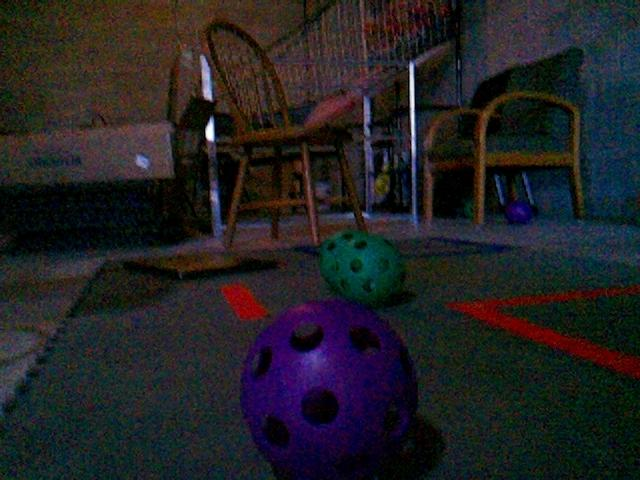Green: (340, 236, 406, 305), (321, 231, 370, 289), (462, 198, 476, 219)
Purple: (239, 298, 421, 478), (504, 199, 535, 224)
